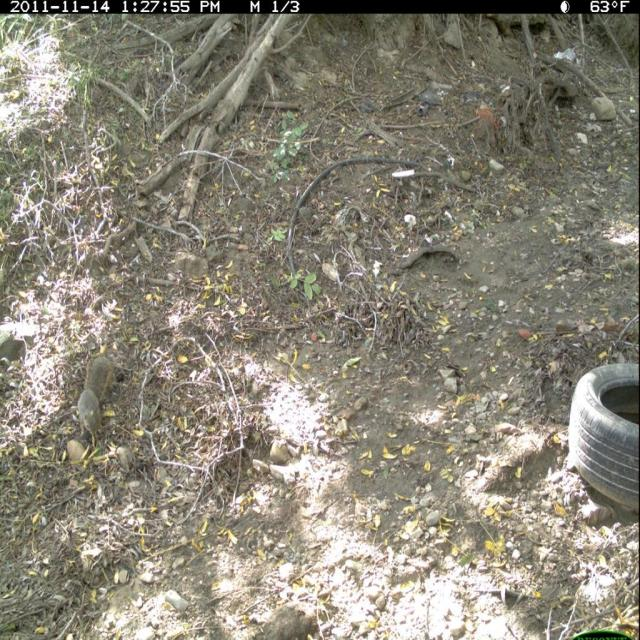squirrel: (65, 347, 128, 458)
